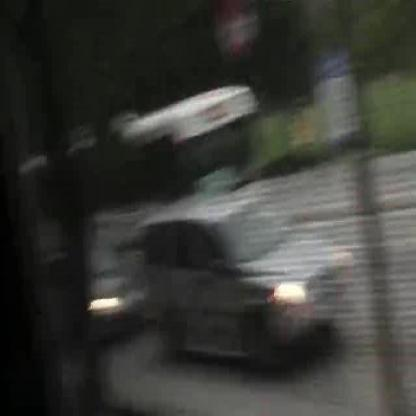other: (266, 268, 311, 322), (82, 292, 123, 312)
